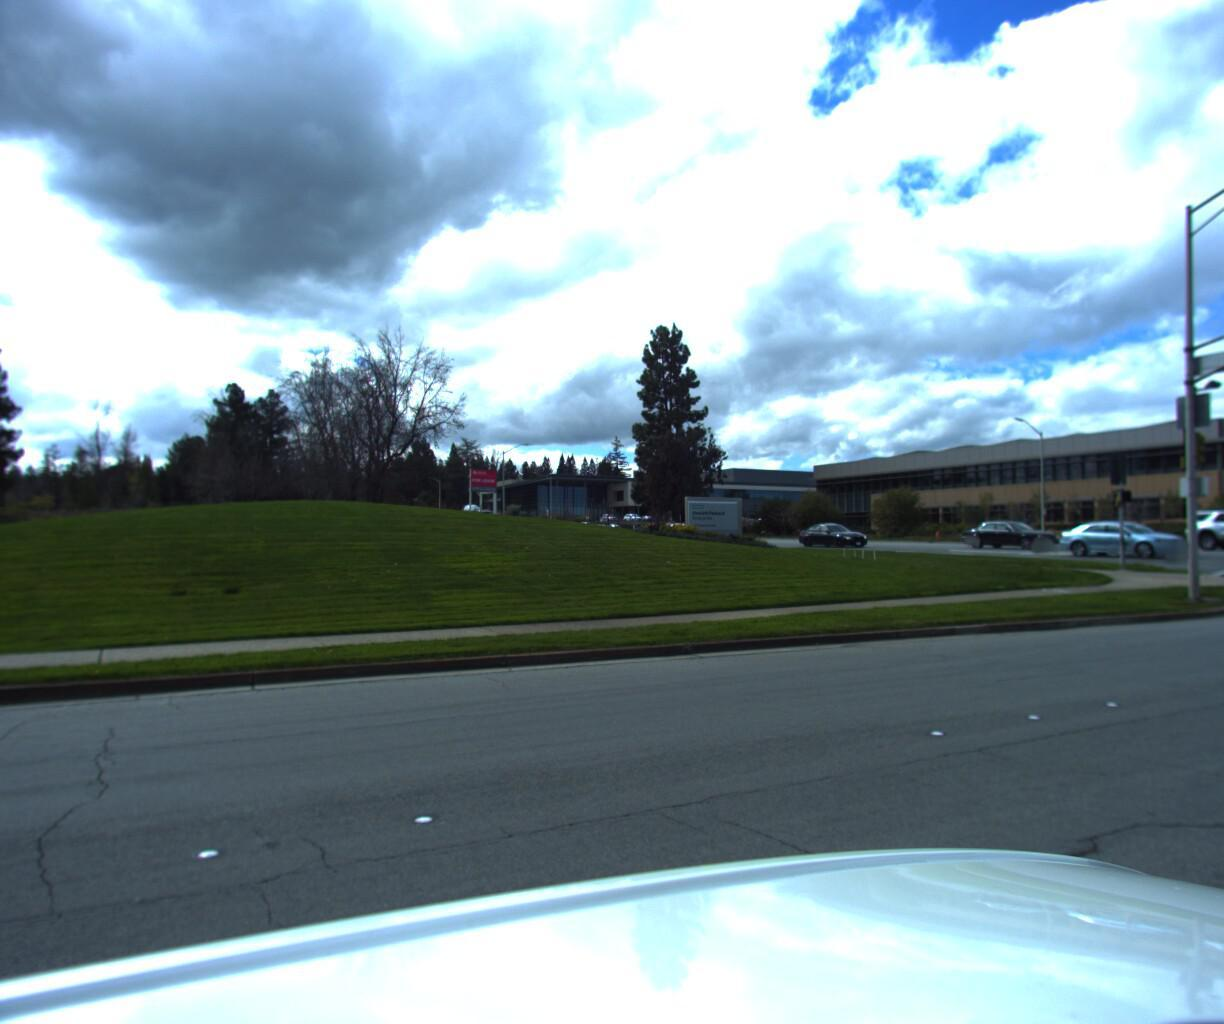car: (1049, 526, 1190, 563), (948, 529, 1054, 557), (1165, 510, 1224, 556), (795, 533, 871, 557)
